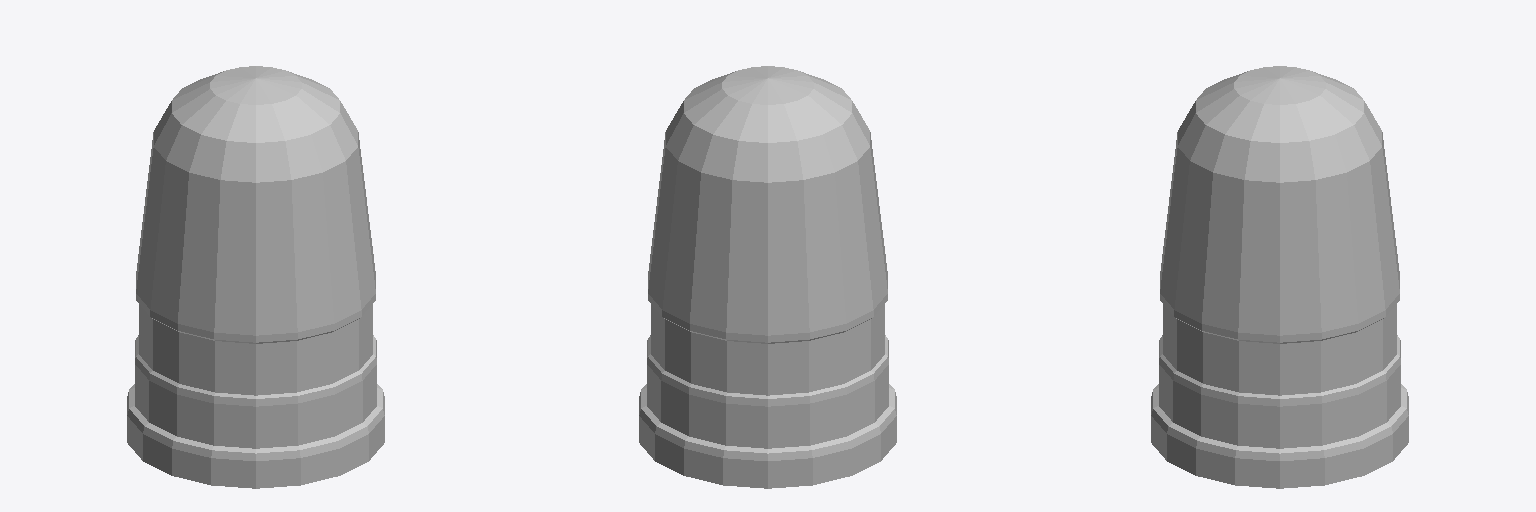
The model's file is thimble.obj.
3 renders of one model, left to right at view 1: azimuth 30°, elevation 25°; view 2: azimuth 150°, elevation 25°; view 3: azimuth 270°, elevation 25°, orthographic.
Visible parts, largest first — view 1: Thimble_Mesh.016; view 2: Thimble_Mesh.016; view 3: Thimble_Mesh.016.
Part boxes in pixels (left/top/right/bottom): Thimble_Mesh.016: left=127, top=66, right=384, bottom=488; Thimble_Mesh.016: left=639, top=66, right=896, bottom=488; Thimble_Mesh.016: left=1151, top=66, right=1408, bottom=488.
Size of the model in its own units: 0.6311 by 0.947 by 0.6215.